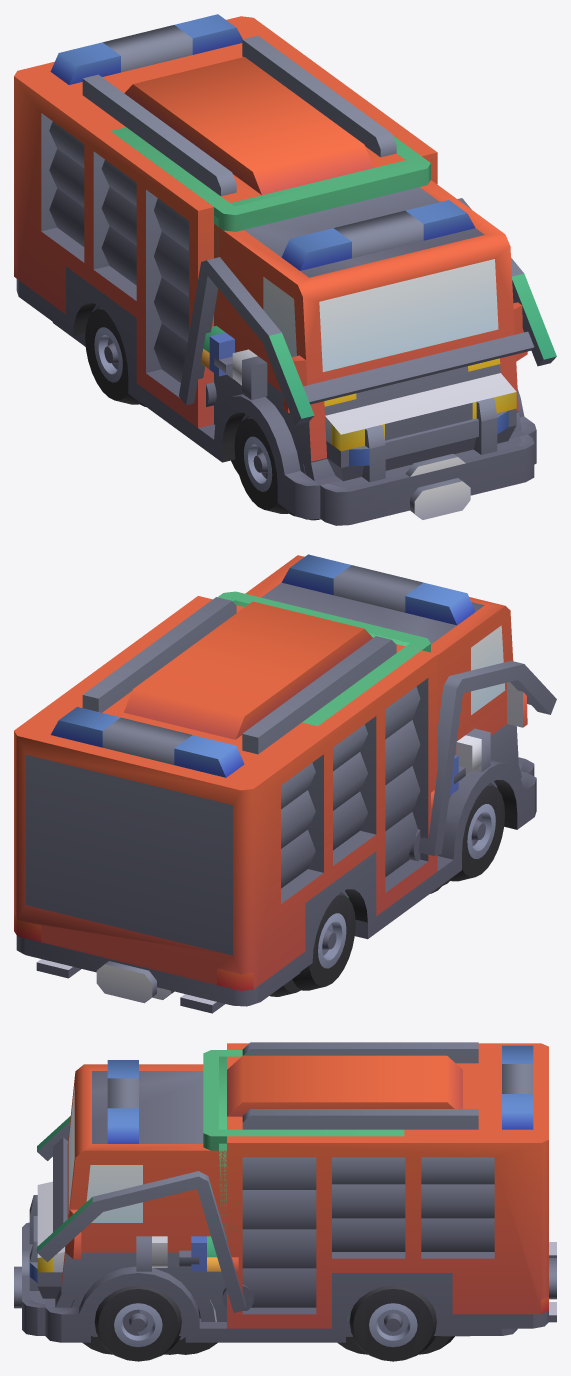
Rendered from cars.glb.
3 views of the same model, one above another, from view 1: azimuth 30°, elevation 25°; view 2: azimuth 150°, elevation 25°; view 3: azimuth 270°, elevation 25° (orthographic). The views are drawn at different scales.
Visible parts, largest first — view 1: body (×4), arm, grill, wheel-back-right, wheel-front-right; view 2: body (×3), arm, wheel-back-right, wheel-front-right; view 3: body (×7), arm, wheel-back-left, wheel-front-left, grill.
Part boxes in pixels (x1,y1,x2,y2): body (×4): (14, 14, 536, 525); arm: (179, 198, 556, 425); grill: (328, 397, 521, 486); wheel-back-right: (85, 306, 140, 404); wheel-front-right: (234, 415, 289, 513); body (×3): (14, 554, 536, 1013); arm: (409, 661, 556, 861); wheel-back-right: (292, 892, 355, 990); wheel-front-right: (449, 783, 504, 881); body (×7): (14, 1042, 556, 1342); arm: (37, 1116, 253, 1312); wheel-back-left: (349, 1285, 436, 1361); wheel-front-left: (94, 1285, 181, 1361); grill: (22, 1195, 45, 1303).
Size of the model in its own units: 1.6 by 1.7 by 3.45.
1 material, 1 textured.
